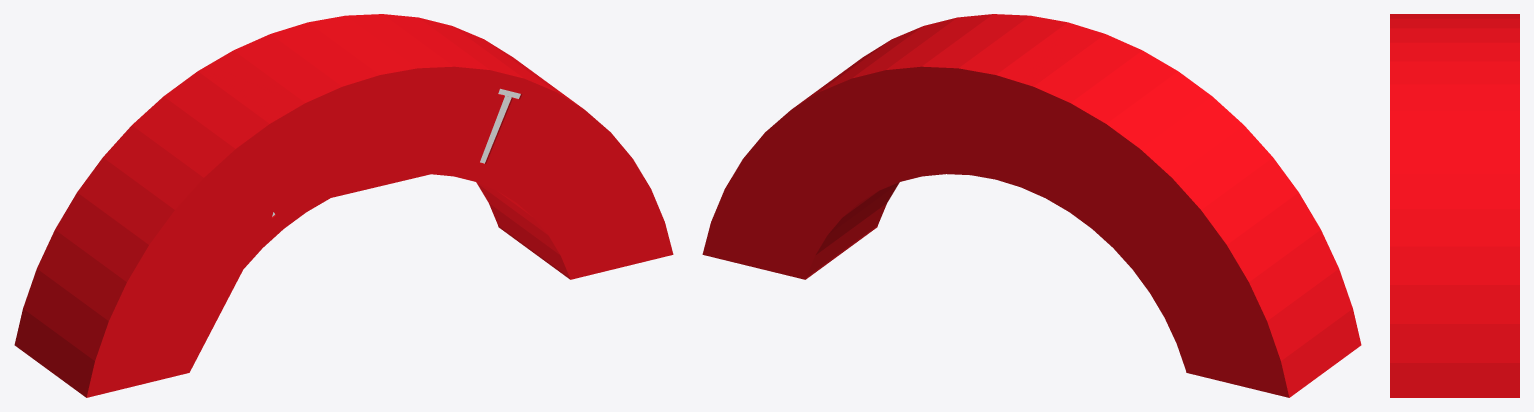
The model's file is Arch.fbx.
3 renders of one model, left to right at view 1: azimuth 30°, elevation 25°; view 2: azimuth 150°, elevation 25°; view 3: azimuth 270°, elevation 25°, orthographic. The views are drawn at different scales.
Visible parts, largest first — view 1: Arch; view 2: Arch; view 3: Arch.
Boxes of the visible parts, x1,y1,x2,y2 form: Arch: (14, 14, 673, 397); Arch: (702, 14, 1361, 397); Arch: (1390, 14, 1519, 397).
Bounding box in the file's own units: 1329 × 544 × 283.
